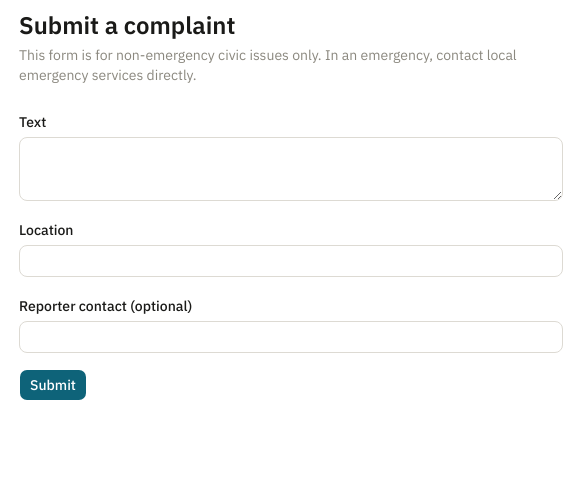
Test: Submit view › renders the 429 message using the real Retry-After value
In the text box labelled "Text": (291, 169) 19,137 -> 563,201, type "A pothole has appeared on the main road."
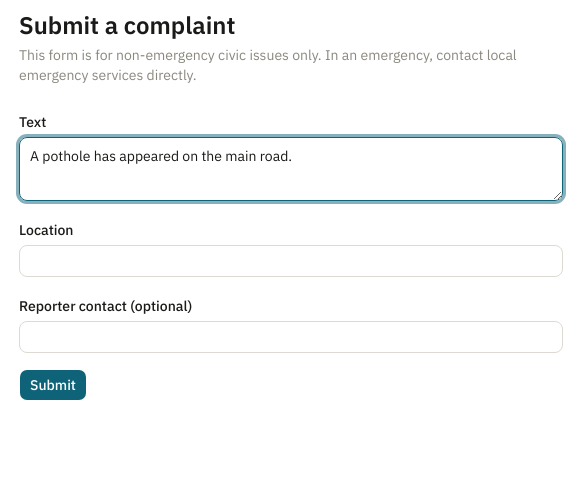
In the field labelled "Location": (291, 261) 19,245 -> 563,277, type "Test Location"
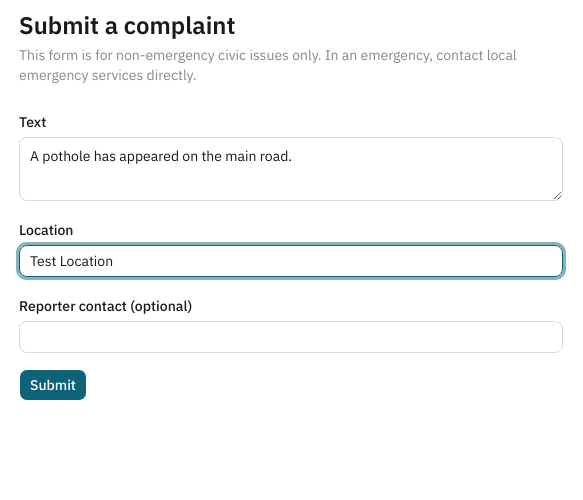
Click the button "Submit": (53, 385) 19,369 -> 87,401
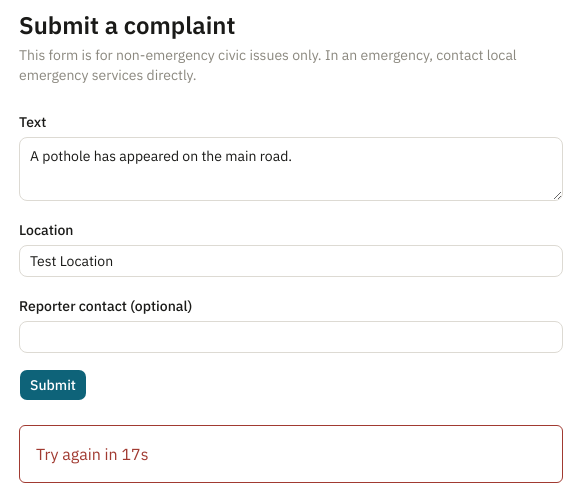
Check: the text "Try again in 17s" is shown, box 36,444 -> 148,464
